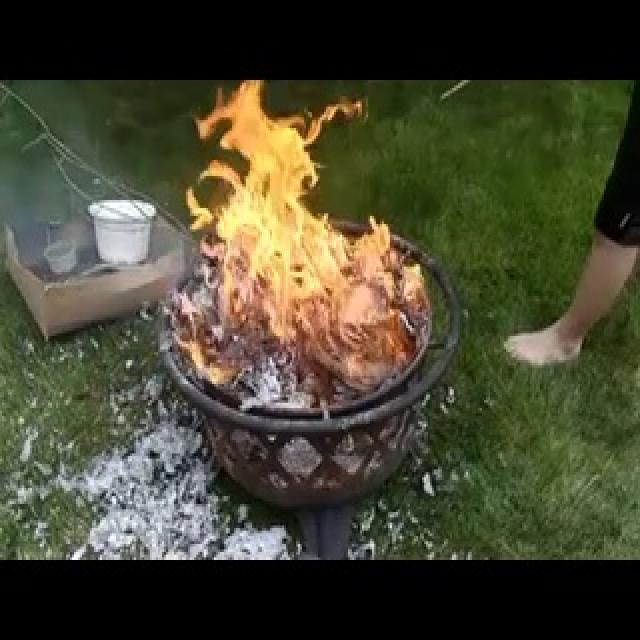fire: (162, 82, 428, 424)
